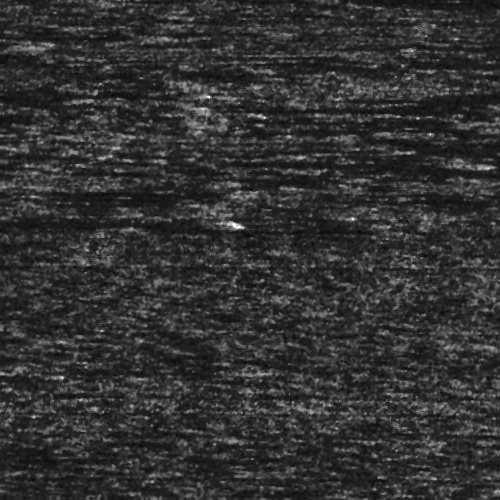object: (445, 156, 500, 169), (212, 368, 285, 373), (0, 38, 21, 49), (0, 364, 14, 377), (201, 218, 232, 223), (266, 30, 307, 33), (489, 103, 500, 114)
shadow: (247, 156, 477, 169), (291, 103, 500, 114), (0, 218, 216, 223), (316, 0, 500, 5), (101, 368, 248, 373), (434, 59, 500, 66), (203, 30, 286, 33)
